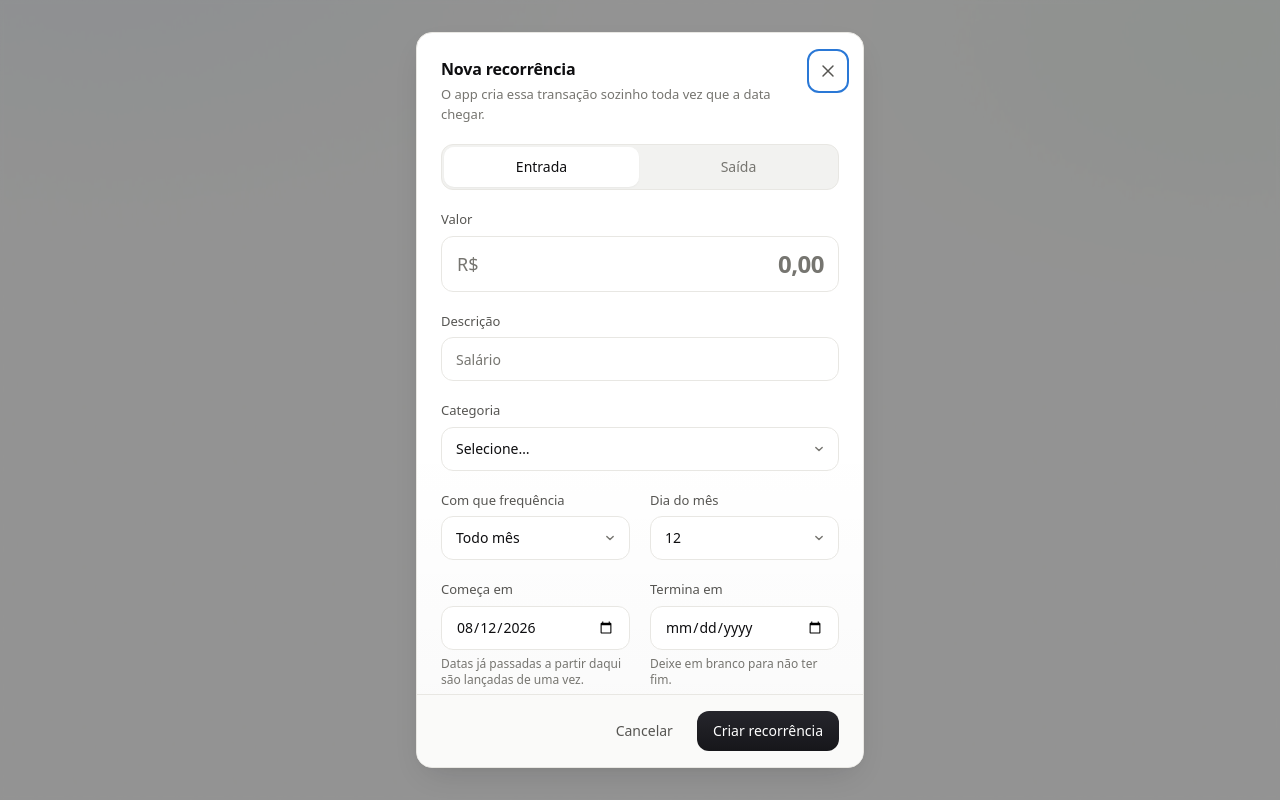
Test case: diálogo de recorrência › troca o campo de calendário conforme a frequência
This screenshot has width=1280, height=800.
expect the dropdown labelled "Dia do mês" is shown: met, box top-left (650, 516), bottom-right (839, 560)
Select "Toda semana" in the dropdown labelled "Com que frequência" at [536, 538], box top-left (441, 516), bottom-right (630, 560)
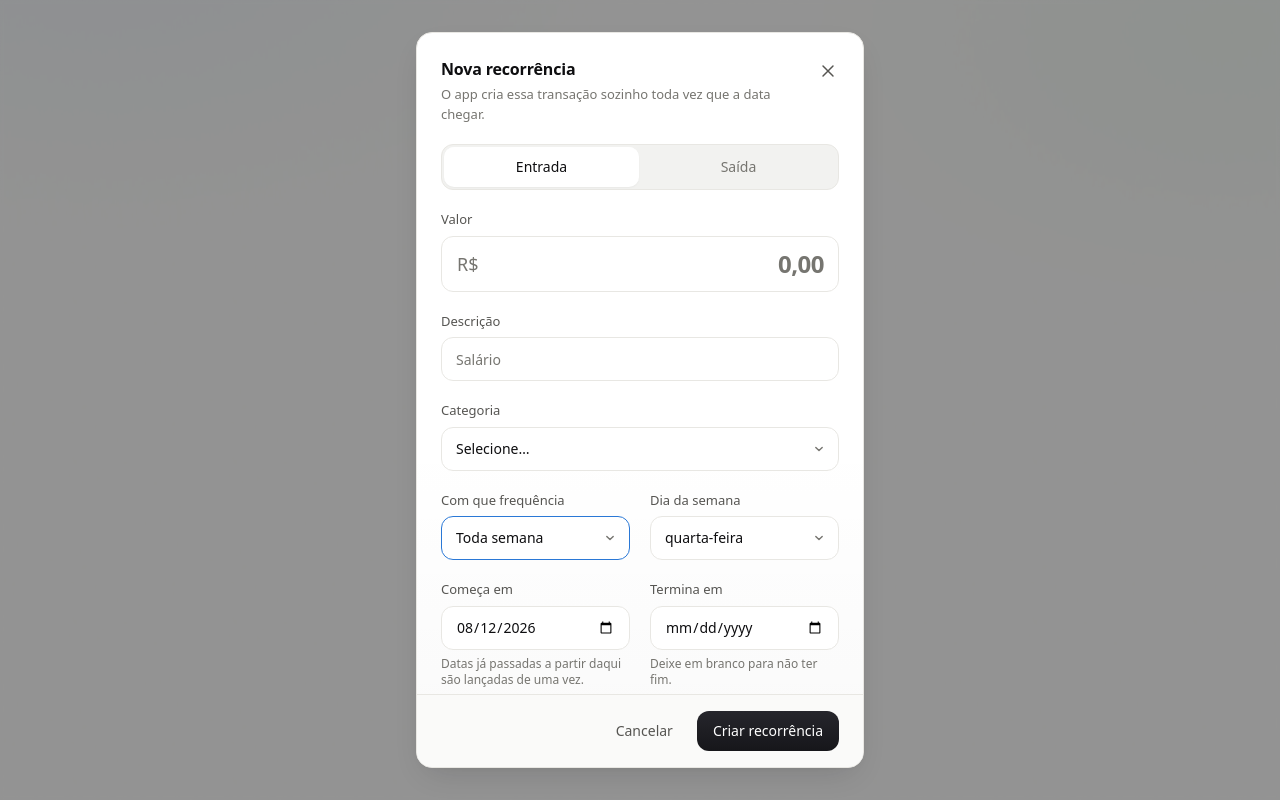
expect the dropdown labelled "Dia da semana" is shown: met, box top-left (650, 516), bottom-right (839, 560)
expect the label labelled "Dia do mês" is gone: met
Select "Todo ano" in the dropdown labelled "Com que frequência" at [536, 538], box top-left (441, 516), bottom-right (630, 560)
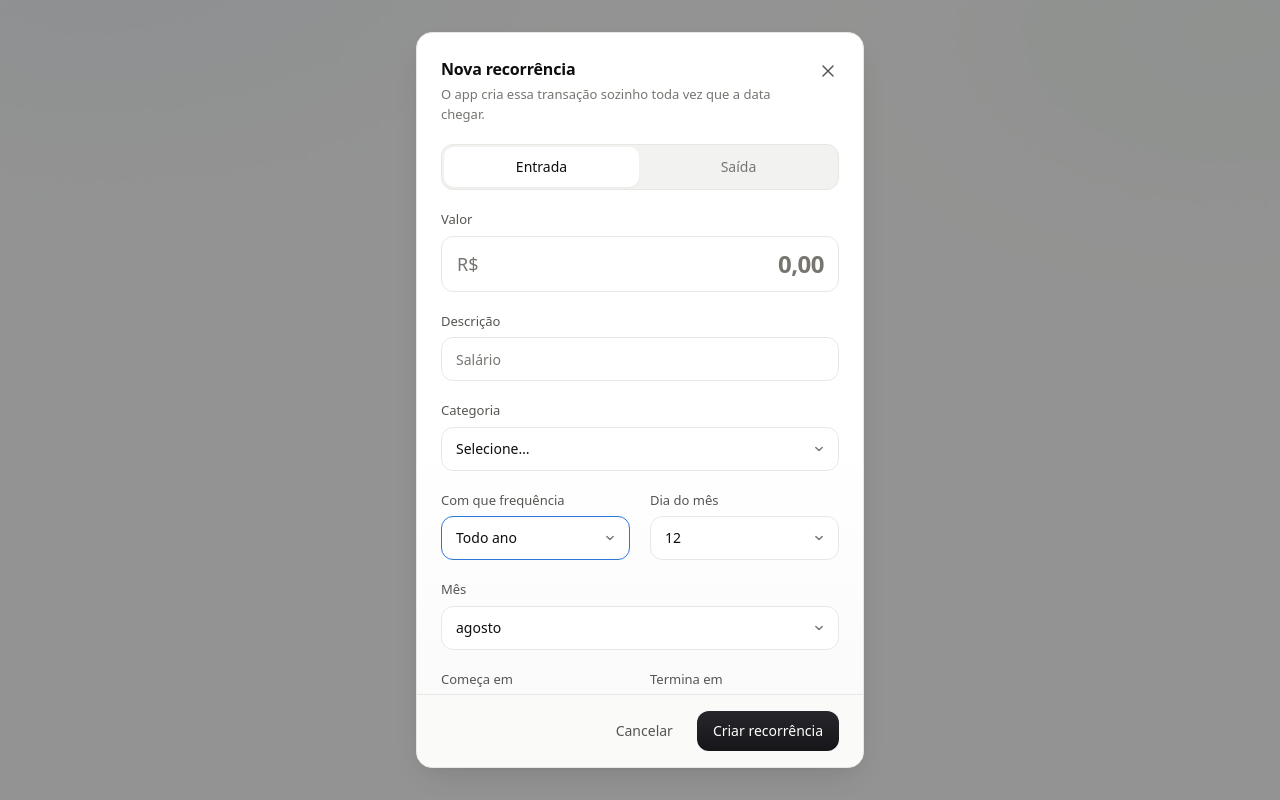
expect the dropdown labelled "Dia do mês" is shown: met, box top-left (650, 516), bottom-right (839, 560)
expect the dropdown labelled "Mês" is shown: met, box top-left (441, 606), bottom-right (839, 650)
